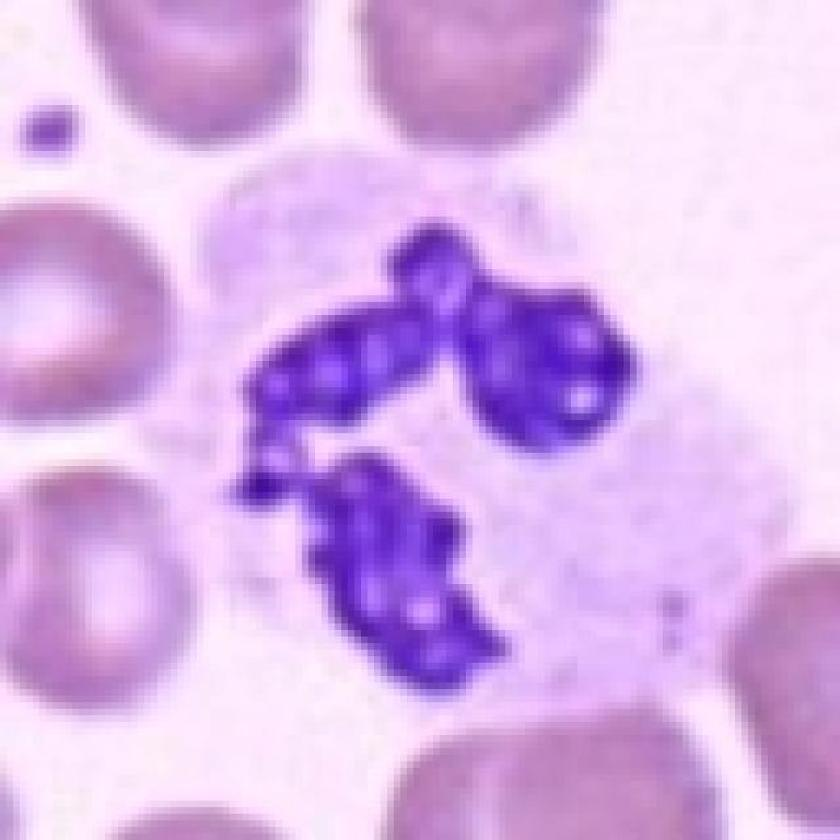neutrophil: (149, 143, 804, 731)
